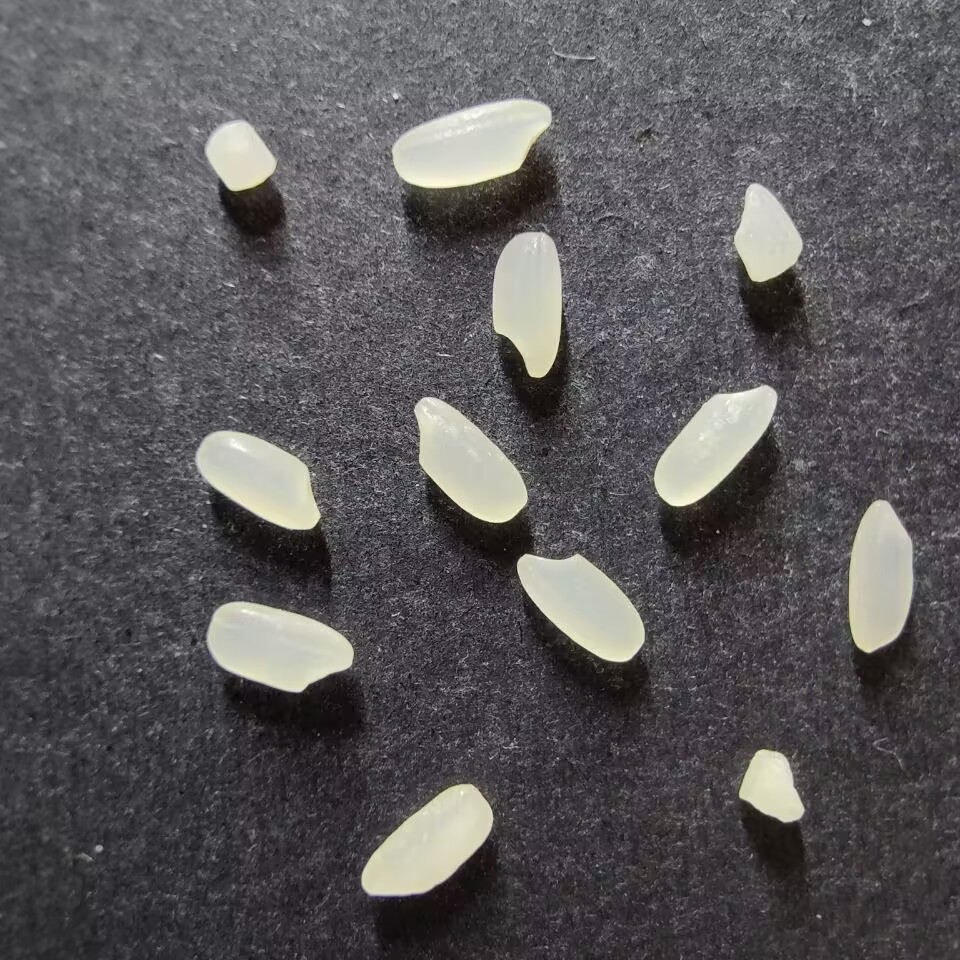broken: (732, 182, 803, 282), (204, 119, 277, 191), (737, 748, 805, 822)
rice: (652, 383, 777, 508), (360, 782, 494, 897), (391, 99, 553, 188), (413, 397, 527, 523), (516, 553, 645, 662), (206, 601, 354, 693), (195, 429, 320, 530), (491, 230, 562, 379), (847, 498, 914, 652)
